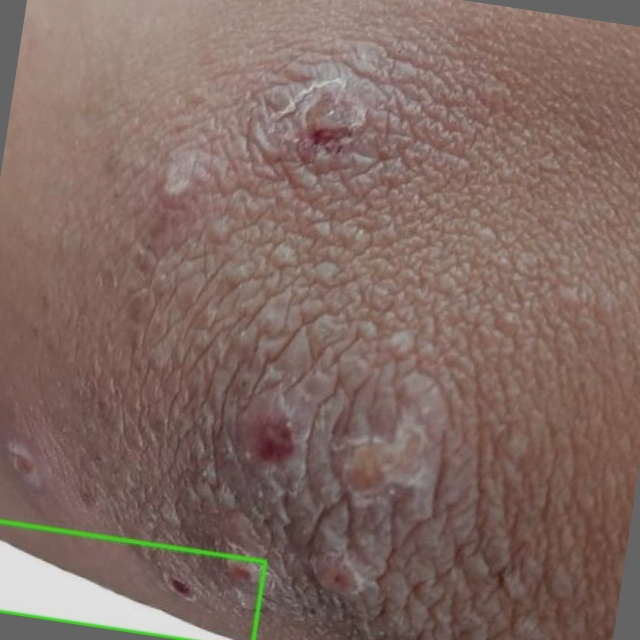Contact Dermatitis: (0, 521, 266, 639)
